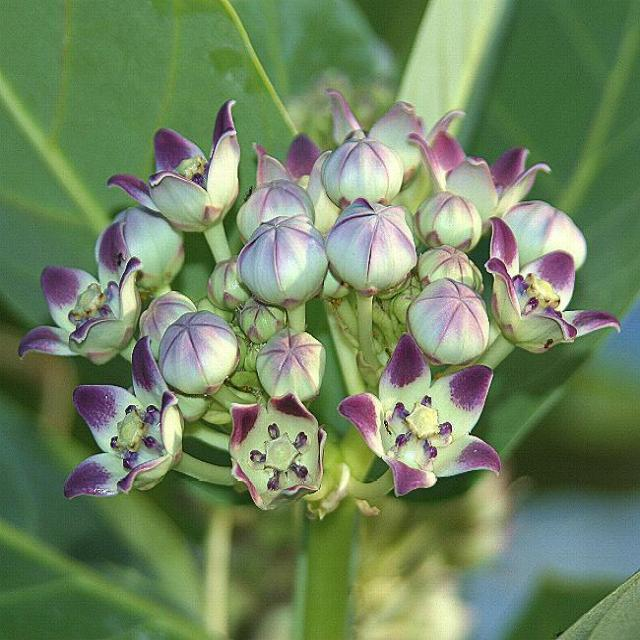Poisonous-Calatropis: (14, 89, 640, 522)
